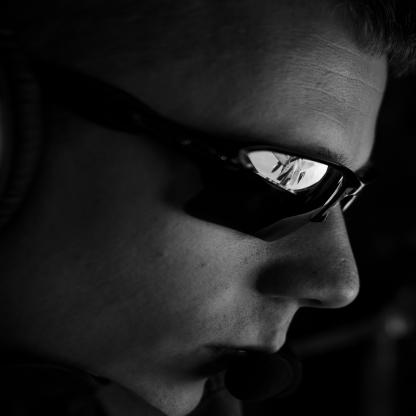F15: (272, 152, 317, 188)
